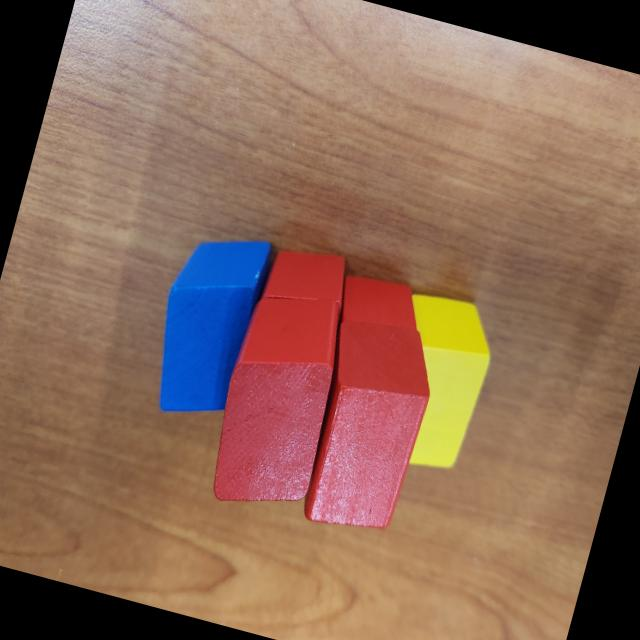blue: (138, 220, 278, 430)
red: (198, 280, 362, 526), (288, 309, 446, 544), (248, 236, 355, 353), (326, 266, 428, 365)
yellow: (368, 286, 503, 479)
